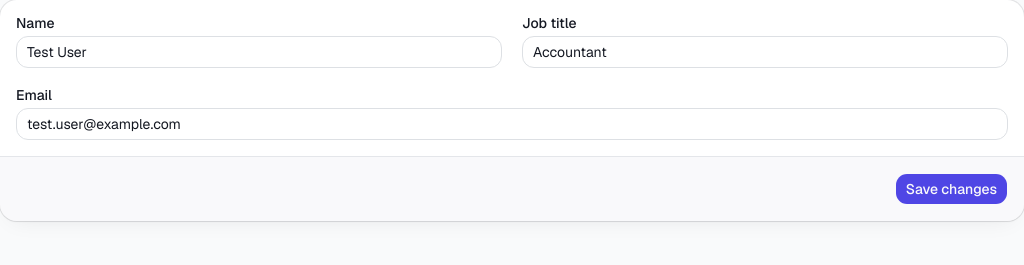
Scenario: ProfileForm › shows the server validation error and keeps what the user typed
Replace the text in the field labelled "Email" with "not-an-email" at (512, 124), box [16,108,1008,140]
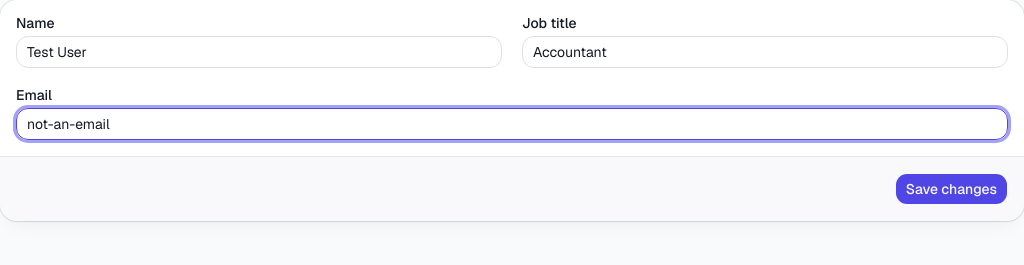
Click the button "Save changes" at (951, 189), box [895,173,1008,205]
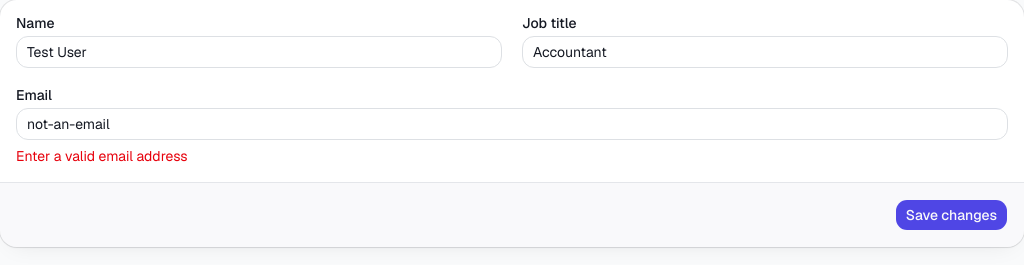
Now the text "Enter a valid email address" is shown, box [16,147,188,165]
